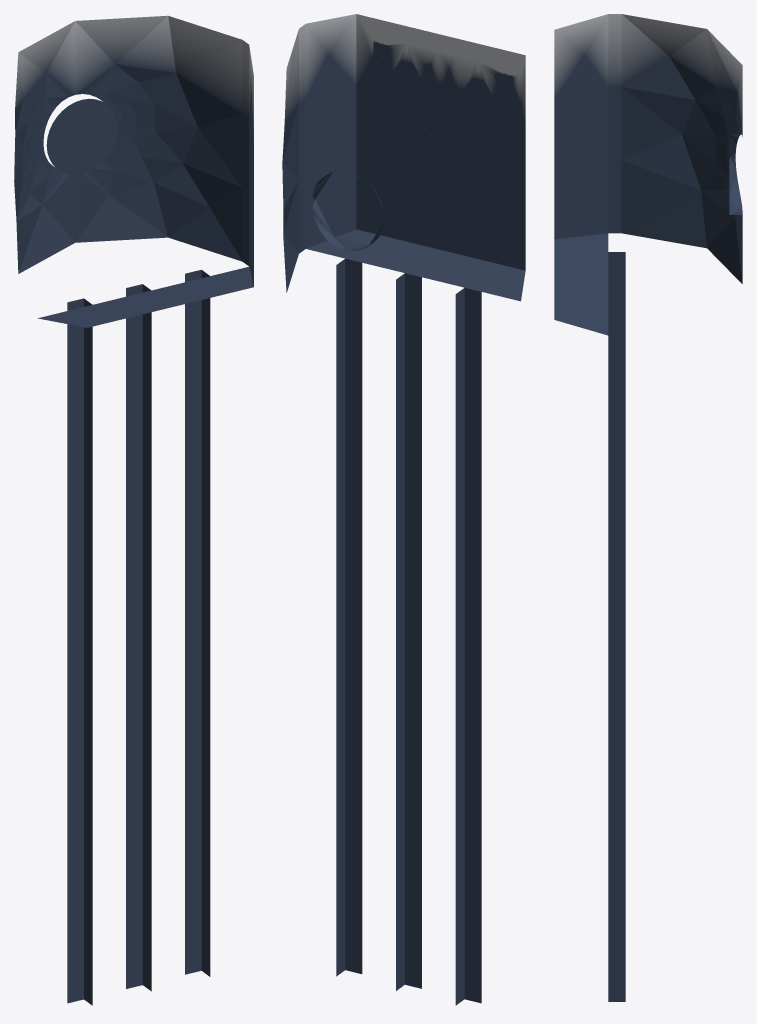
The picture shows the model from 3 angles, left to right: view 1: azimuth 30°, elevation 25°; view 2: azimuth 150°, elevation 25°; view 3: azimuth 270°, elevation 25°; orthographic projection. The views are drawn at different scales.
Visible parts, largest first — view 1: Created by Gmsh; view 2: Created by Gmsh; view 3: Created by Gmsh.
Part boxes in pixels (box(x1,y1,x2,y2)): Created by Gmsh: box(14, 15, 253, 1005); Created by Gmsh: box(282, 14, 525, 1005); Created by Gmsh: box(554, 14, 742, 1001).
Bounding box in the file's own units: 0.0824 × 0.3429 × 0.0641.
